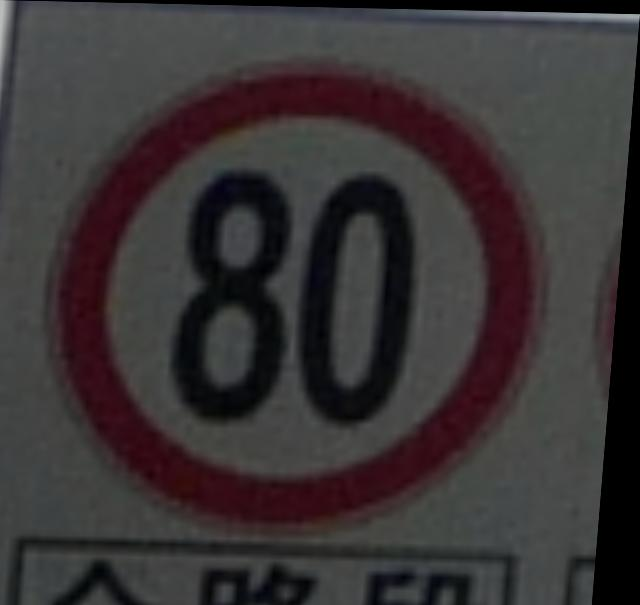limit80: (17, 36, 566, 553)
